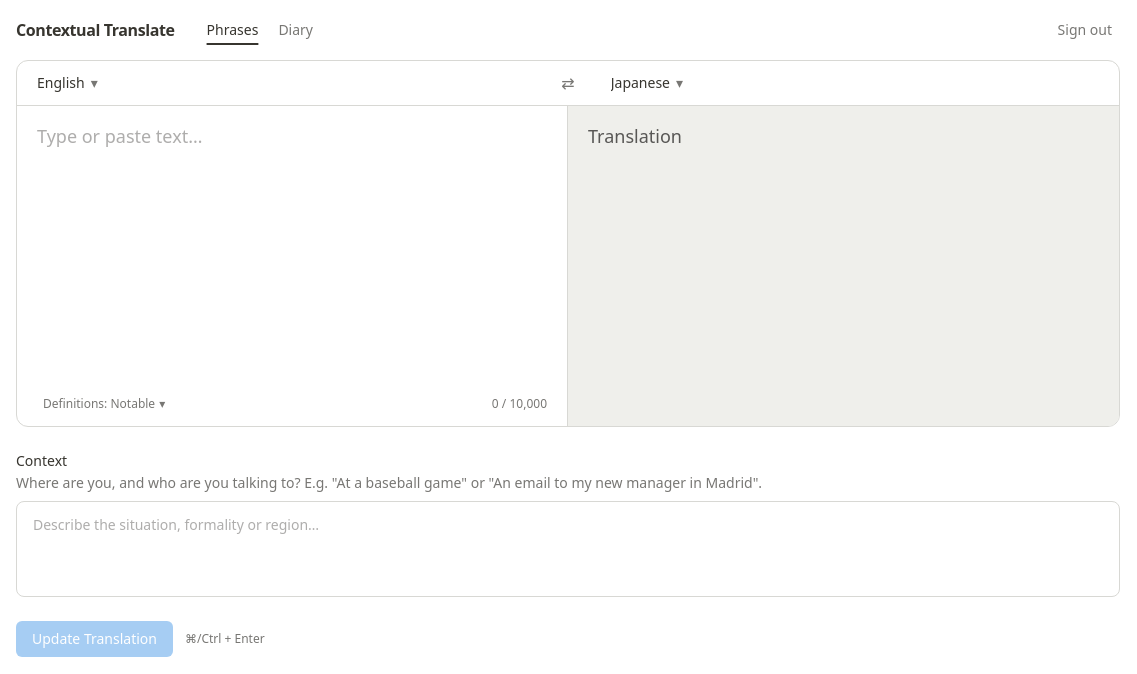
Test: TranslatePage › renders plain text when there are no readings to show
Expected: the button "Sign out" is shown, [1050,16,1120,44]
Type "Hello" into the text box named "Text to translate" at (292, 250), box [17,106,567,394]
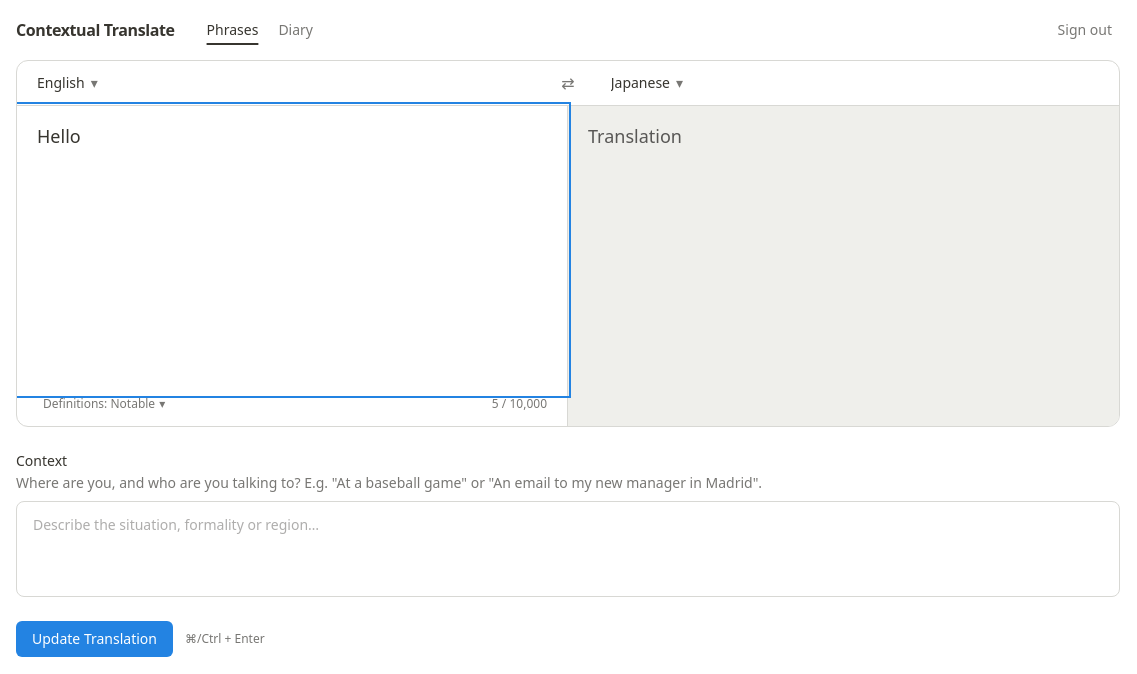
Click the button "Update Translation" at (94, 639), box [16,621,173,657]
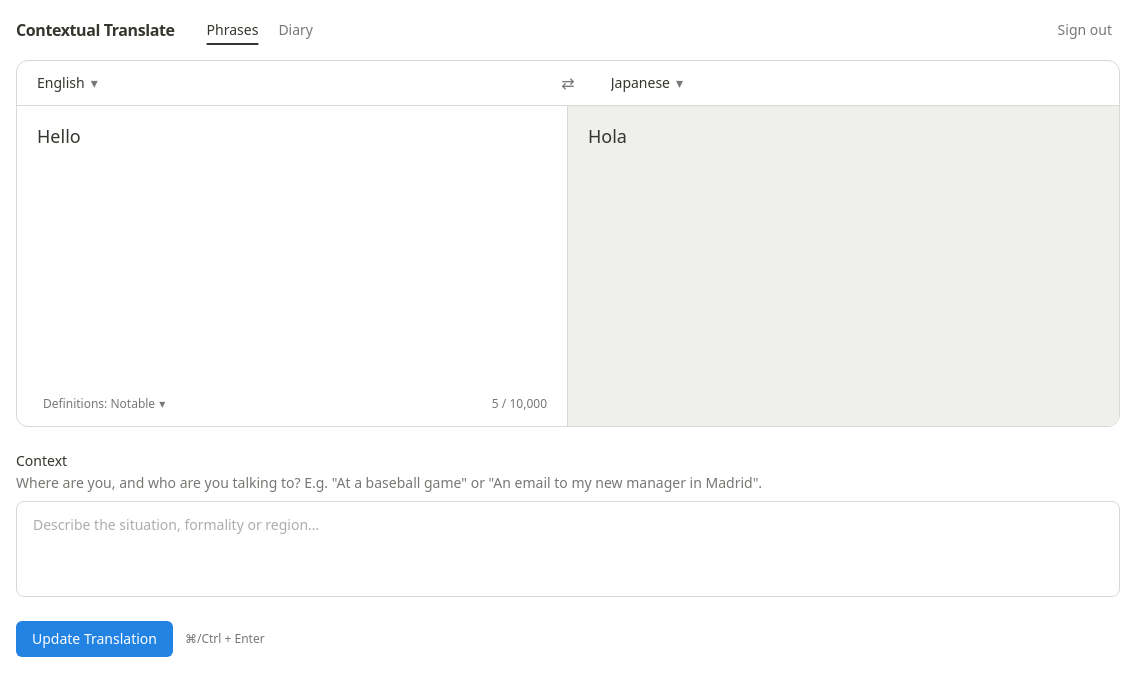
Result: the text "Hola" is shown at [588,124,627,148]
